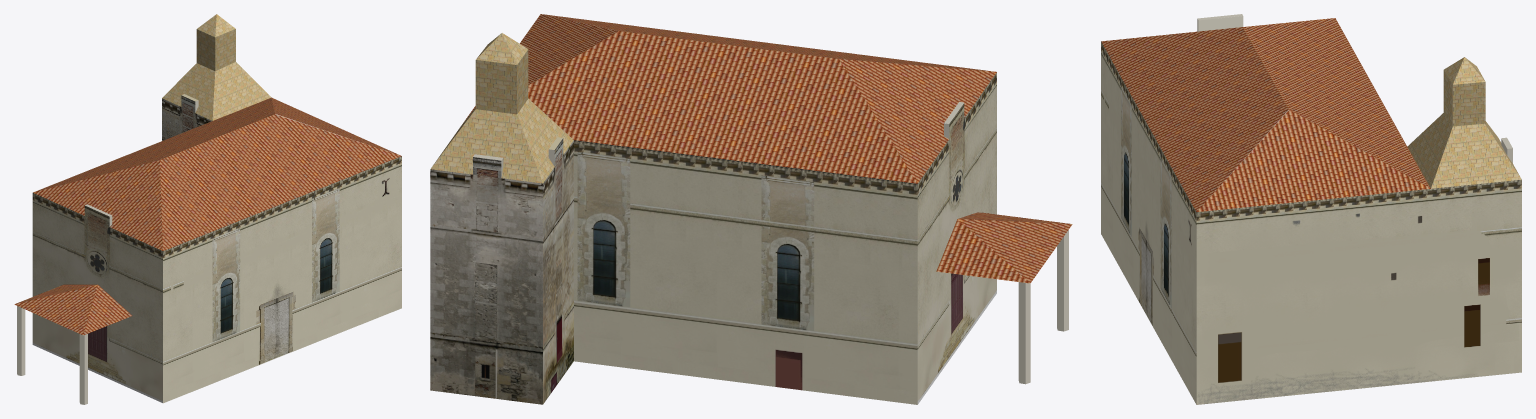
3 renders of one model, left to right at view 1: azimuth 30°, elevation 25°; view 2: azimuth 150°, elevation 25°; view 3: azimuth 270°, elevation 25°, orthographic. The views are drawn at different scales.
Visible parts, largest first — view 1: SketchUp.001_ID17, SketchUp.006_ID82, SketchUp.004_ID52, SketchUp_ID2, SketchUp.009_ID113, SketchUp.016_ID184, SketchUp.020_ID237, SketchUp.019_ID229; view 2: SketchUp.017_ID199, SketchUp.006_ID82, SketchUp.018_ID214, SketchUp.004_ID52, SketchUp_ID2, SketchUp.016_ID184, SketchUp.009_ID113, SketchUp.019_ID229, SketchUp.020_ID237; view 3: SketchUp.005_ID67, SketchUp.006_ID82, SketchUp.001_ID17, SketchUp_ID2, SketchUp.010_ID123.
Part boxes in pixels (box(x1,y1,x2,y2)): SketchUp.001_ID17: box(163, 156, 401, 403); SketchUp.006_ID82: box(33, 97, 401, 250); SketchUp.004_ID52: box(32, 193, 162, 402); SketchUp_ID2: box(162, 14, 271, 120); SketchUp.009_ID113: box(14, 284, 132, 335); SketchUp.016_ID184: box(162, 98, 211, 140); SketchUp.020_ID237: box(79, 334, 87, 404); SketchUp.019_ID229: box(17, 306, 25, 375); SketchUp.017_ID199: box(574, 140, 917, 404); SketchUp.006_ID82: box(462, 14, 996, 183); SketchUp.018_ID214: box(430, 169, 542, 404); SketchUp.004_ID52: box(917, 72, 996, 404); SketchUp_ID2: box(430, 33, 573, 183); SketchUp.016_ID184: box(543, 140, 573, 404); SketchUp.009_ID113: box(936, 212, 1072, 283); SketchUp.019_ID229: box(1018, 282, 1030, 384); SketchUp.020_ID237: box(1057, 230, 1068, 331); SketchUp.005_ID67: box(1196, 179, 1521, 404); SketchUp.006_ID82: box(1101, 18, 1430, 211); SketchUp.001_ID17: box(1101, 41, 1196, 404); SketchUp_ID2: box(1407, 57, 1521, 188); SketchUp.010_ID123: box(1198, 16, 1243, 31).
Bounding box in the file's own units: 24.19 × 15.06 × 19.21.
18 materials, 11 textured.
